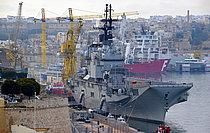MIL_Ship: (74, 29, 195, 123)
